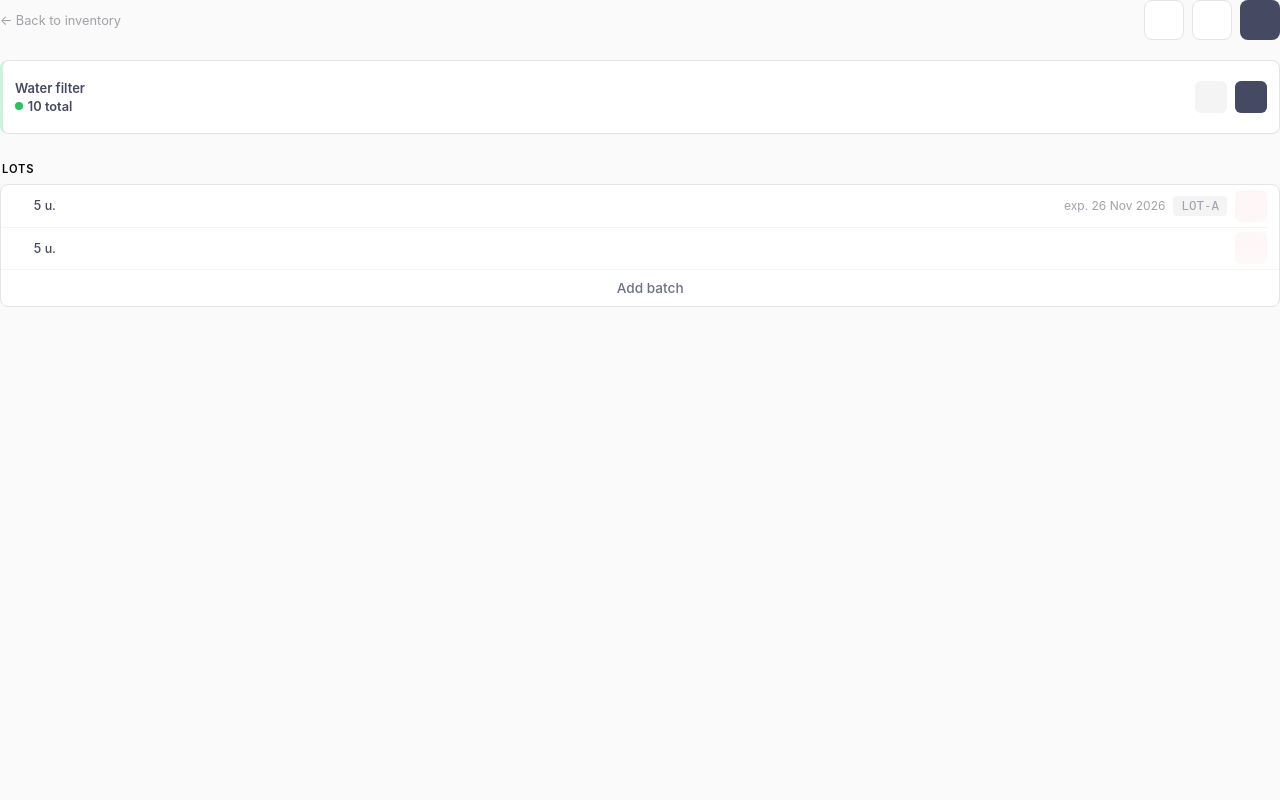
Scenario: StockDetailPage › shows error toast when delete stock fails with a server error
Expected: the text "Water filter" is shown, [15, 80, 85, 96]
Click the button named "Delete stock": {"x": 1212, "y": 20} [1192, 0, 1232, 40]
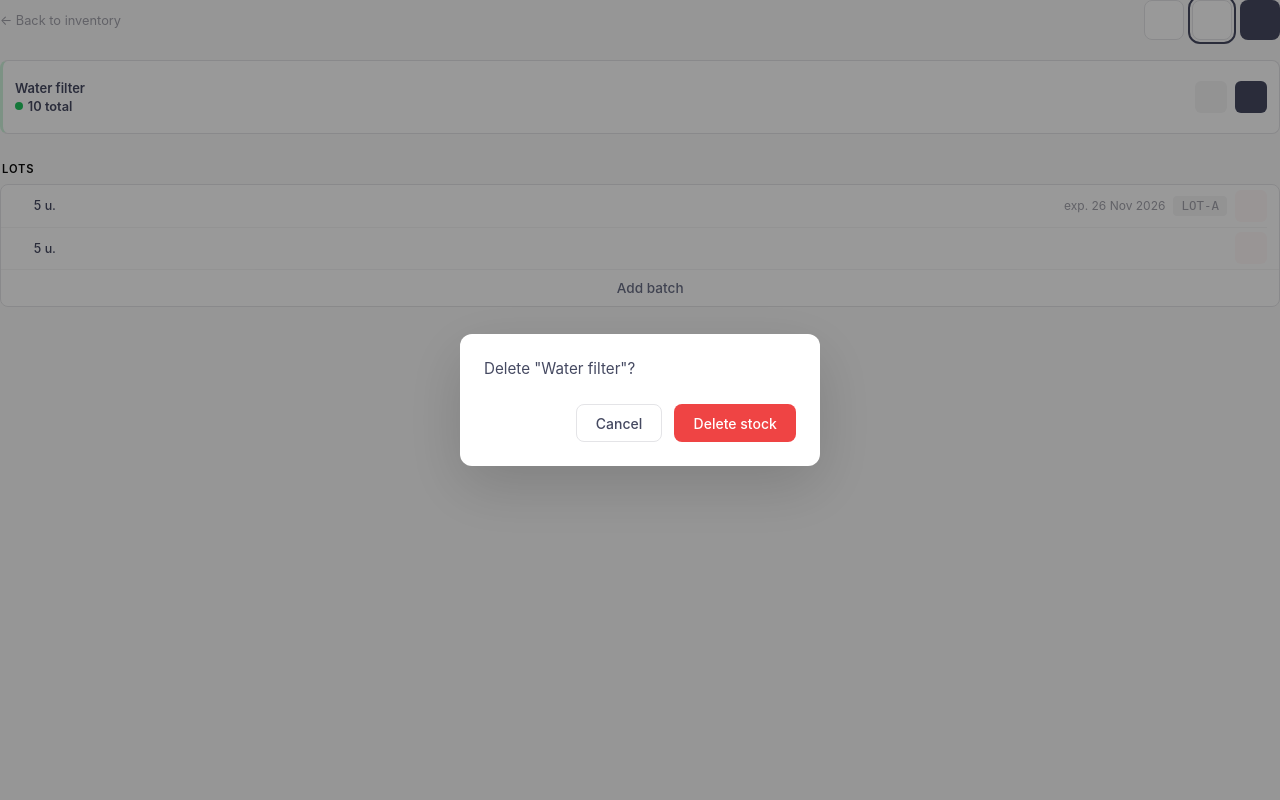
Click the button "Delete stock": {"x": 735, "y": 423} [674, 404, 796, 442]
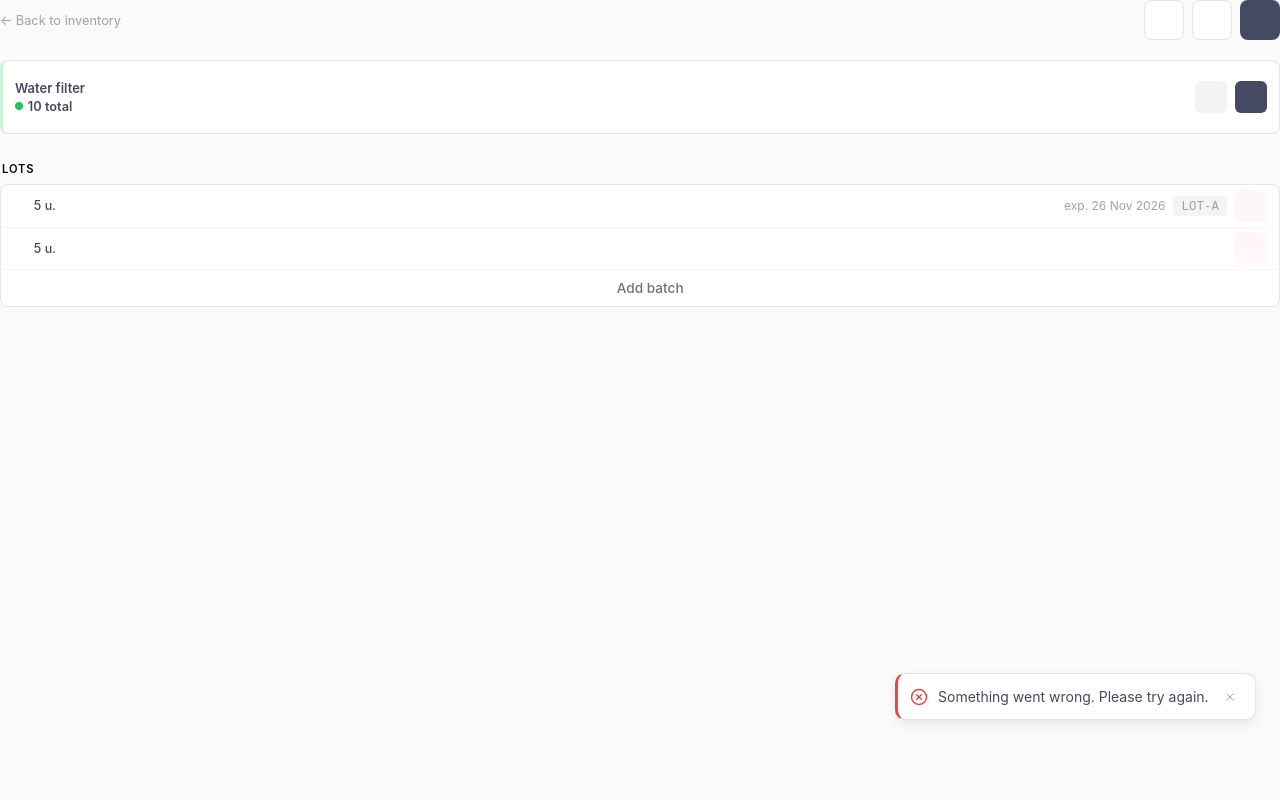
Expected: the text "Something went wrong. Please try again." is shown, [938, 688, 1209, 706]
